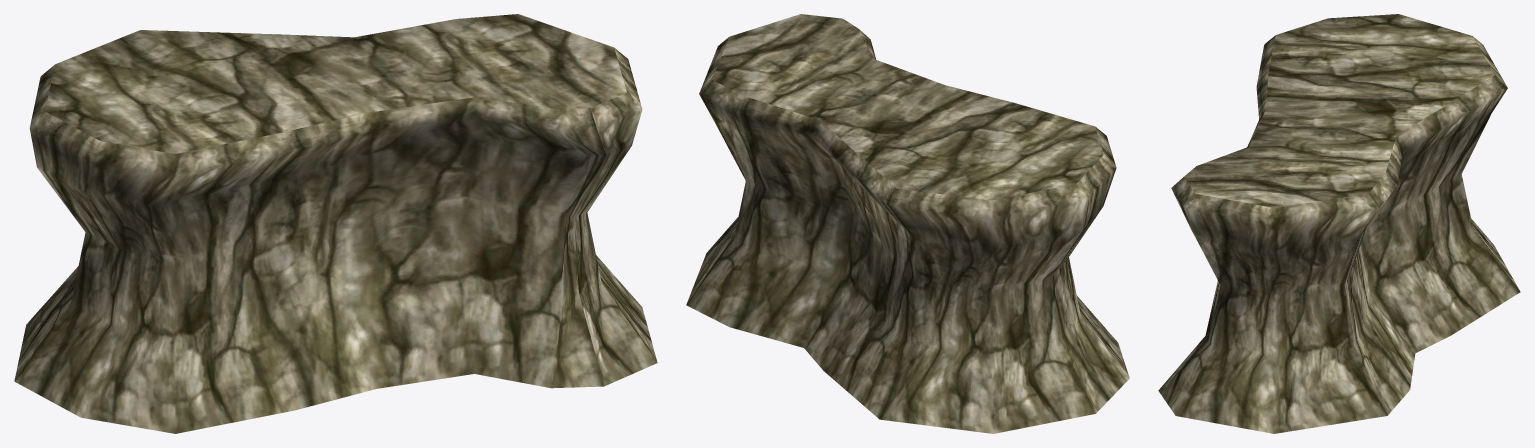
File: CB_NEWPLAYSURFACE_CB_PLAYSURFACE05.fbx
3 views of the same model, side by side, from view 1: azimuth 30°, elevation 25°; view 2: azimuth 150°, elevation 25°; view 3: azimuth 270°, elevation 25° (orthographic). The views are drawn at different scales.
Visible parts, largest first — view 1: CB_NEWPLAYSURFACE_CB_PLAYSURFACE05; view 2: CB_NEWPLAYSURFACE_CB_PLAYSURFACE05; view 3: CB_NEWPLAYSURFACE_CB_PLAYSURFACE05.
Boxes of the visible parts, box(x1,y1,x2,y2) form: CB_NEWPLAYSURFACE_CB_PLAYSURFACE05: box(14, 14, 657, 433); CB_NEWPLAYSURFACE_CB_PLAYSURFACE05: box(686, 14, 1129, 433); CB_NEWPLAYSURFACE_CB_PLAYSURFACE05: box(1158, 14, 1520, 433).
Bounding box in the file's own units: 142763 × 66374 × 101388.
Materials: 2 (2 with a texture image).
